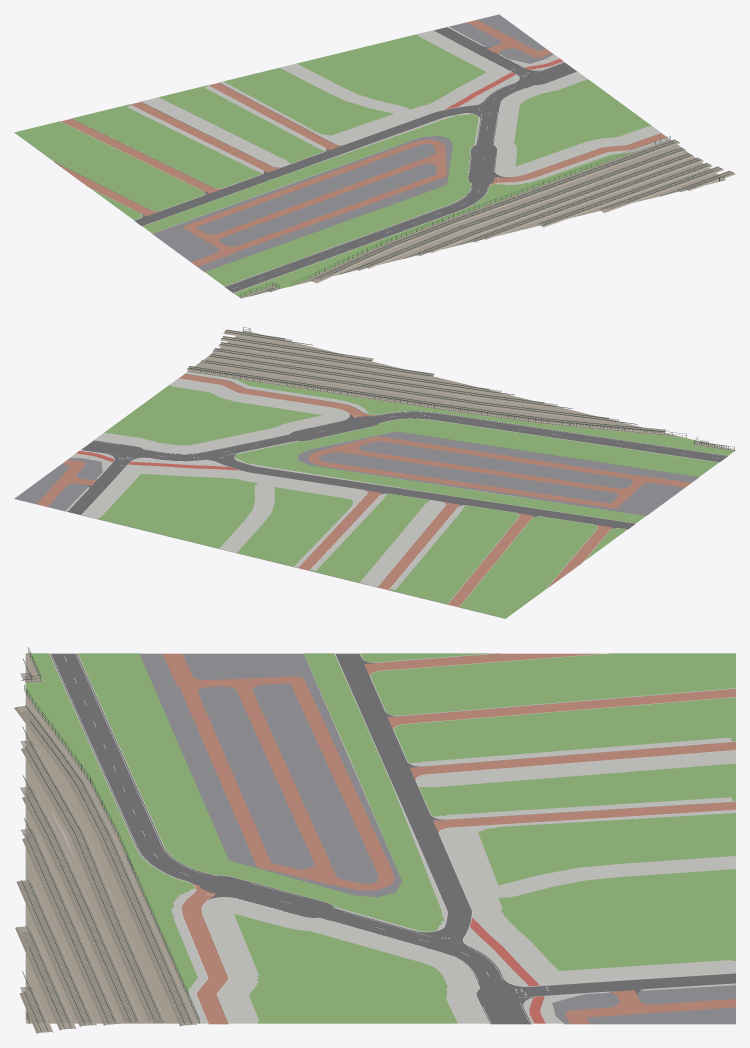
File: ground_7_5.glb
3 renders of one model, top to bottom at view 1: azimuth 30°, elevation 25°; view 2: azimuth 150°, elevation 25°; view 3: azimuth 270°, elevation 25°, orthographic. The views are drawn at different scales.
Visible parts, largest first — view 1: ground_7_5; view 2: ground_7_5; view 3: ground_7_5.
Boxes of the visible parts, box(x1,y1,x2,y2) form: ground_7_5: box(14, 14, 735, 298); ground_7_5: box(14, 327, 735, 618); ground_7_5: box(14, 647, 735, 1033).
Bounding box in the file's own units: 206 × 1.67 × 165.
